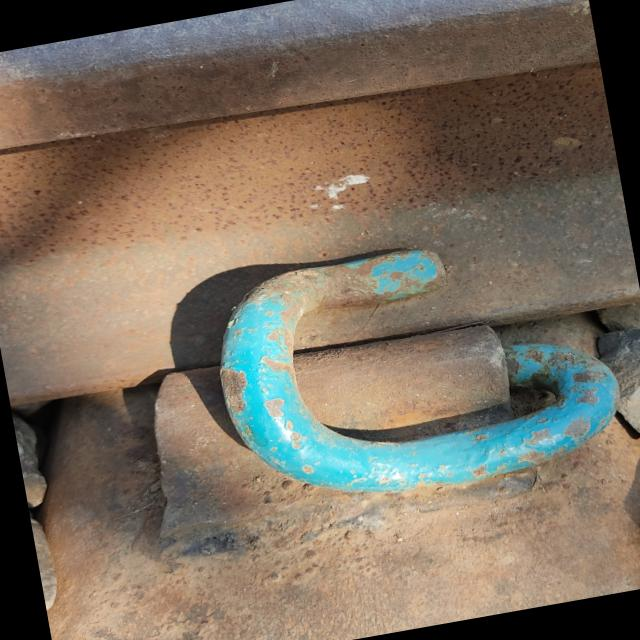track_bolt: (182, 199, 640, 536)
